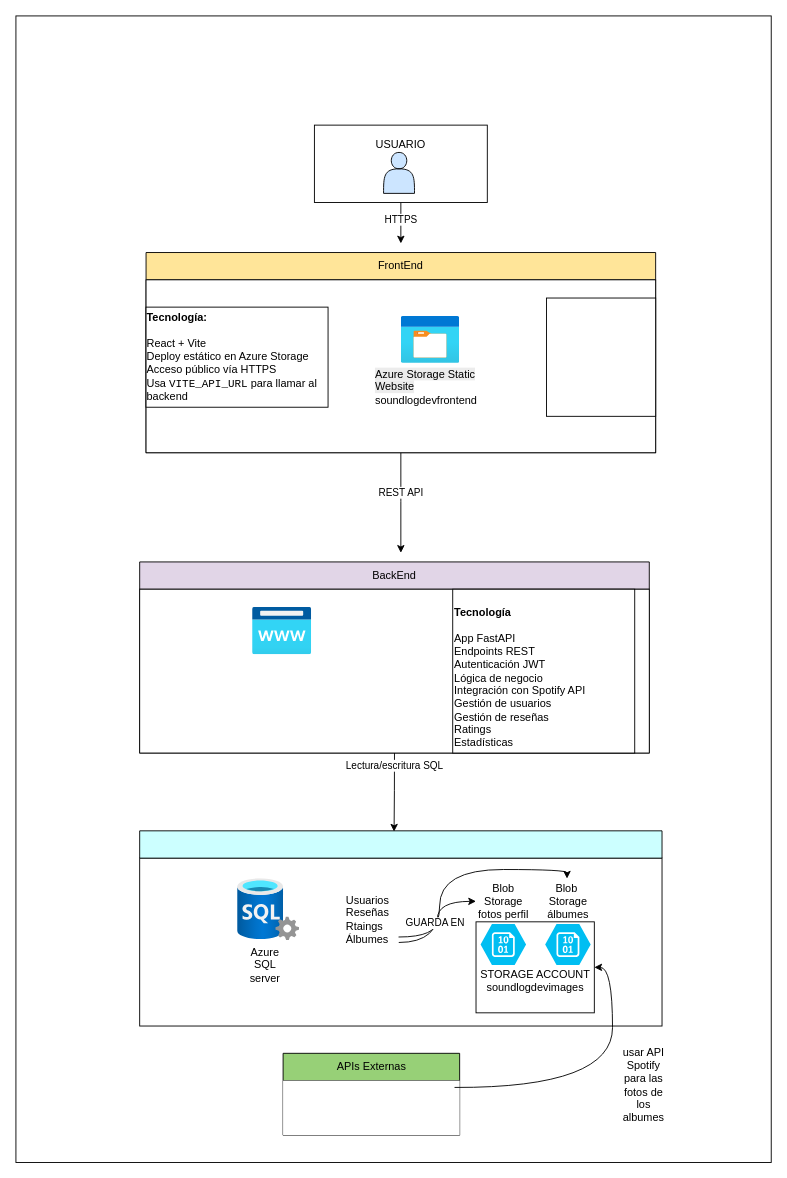
Some shapes in this 787 by 1178 pixel diagram are drawn without their labels. The shapes that lost their labels are listed below. From the top down, each one's centre as x and y in pixels, then its label:
At pixel 601 356: "Funciones UI completa Login Busquedas reseñas Estadísticas Gestión del perfil".
At pixel 281 630: "Azure App Service: soundlogdevbackend".
At pixel 400 844: "Base de Datos".
At pixel 371 1107: "Spotify Metadatos y carátulas".
